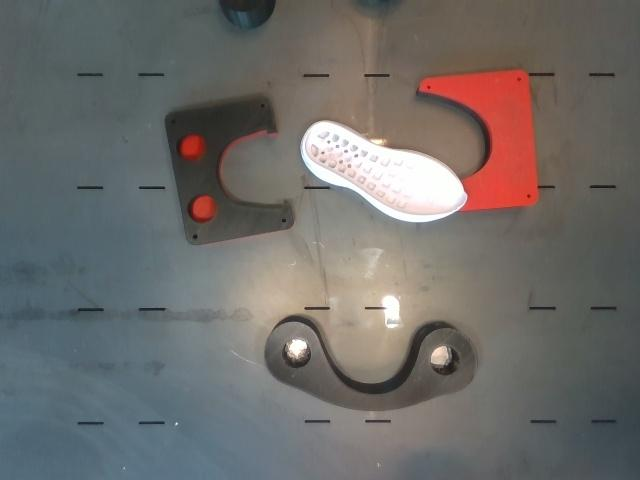shoes: (305, 123, 467, 216)
